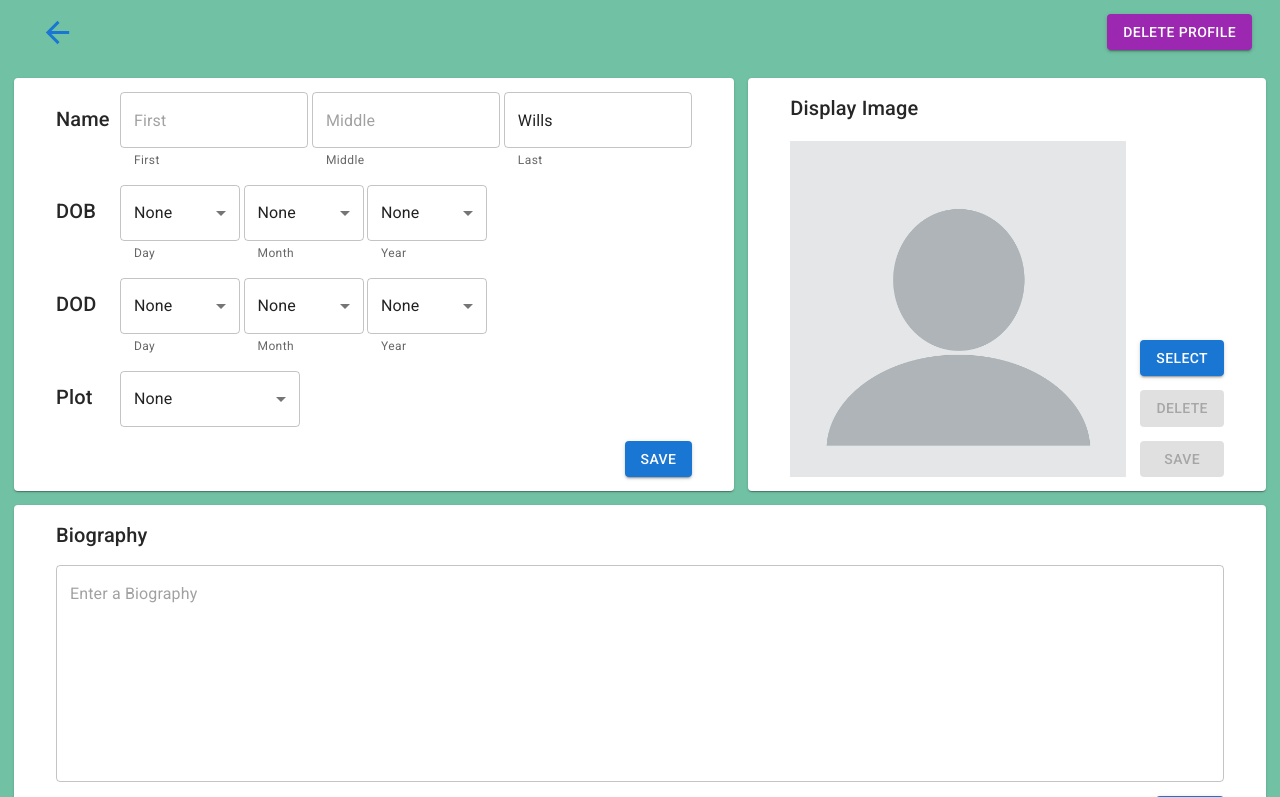
ProfileEditorPage › Renders a delete confirmation modal when Delete Selected button is clicked
Click the button with test id "delete-profile-button": (1180, 32) left=1107, top=14, right=1252, bottom=50
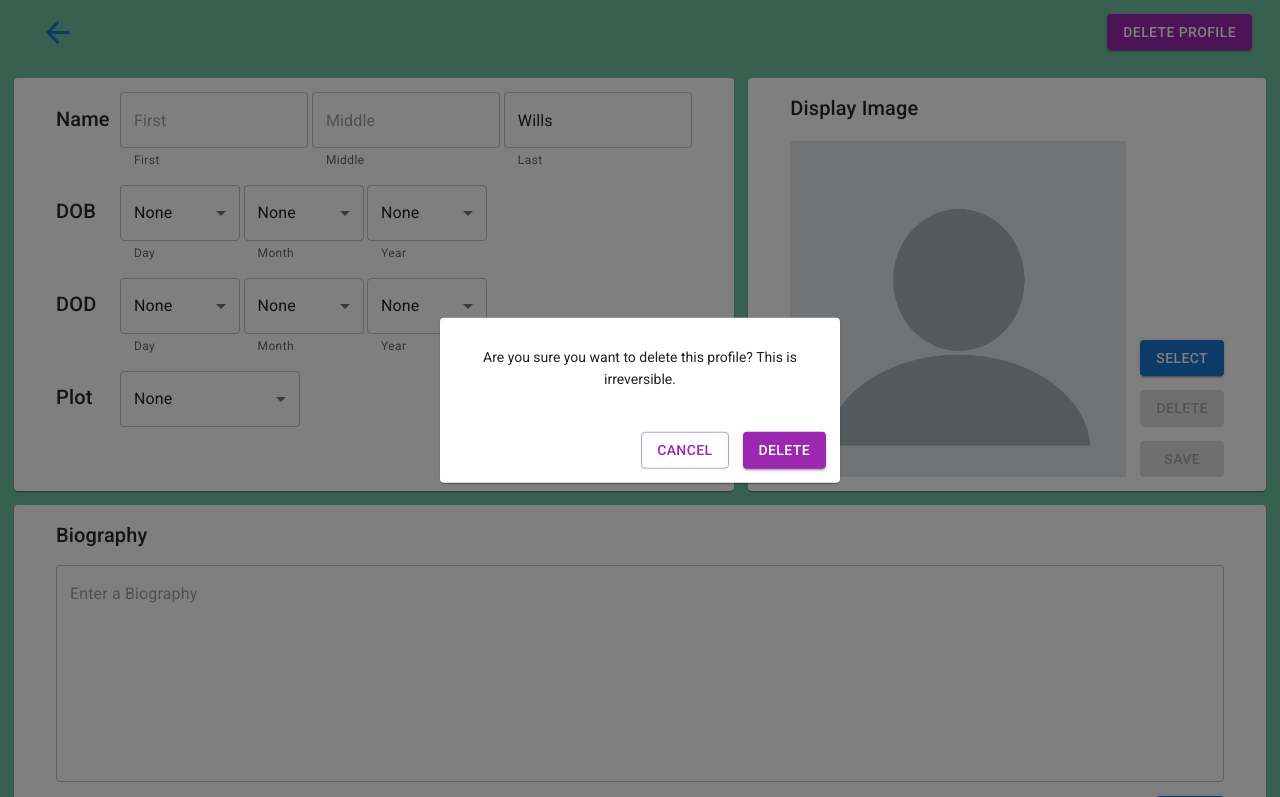
Expected: the number of buttons "Delete" is 2, left=1140, top=390, right=1224, bottom=427; left=742, top=432, right=826, bottom=468
Now the button with test id "modal-confirm-button" is shown, box left=742, top=432, right=826, bottom=468
